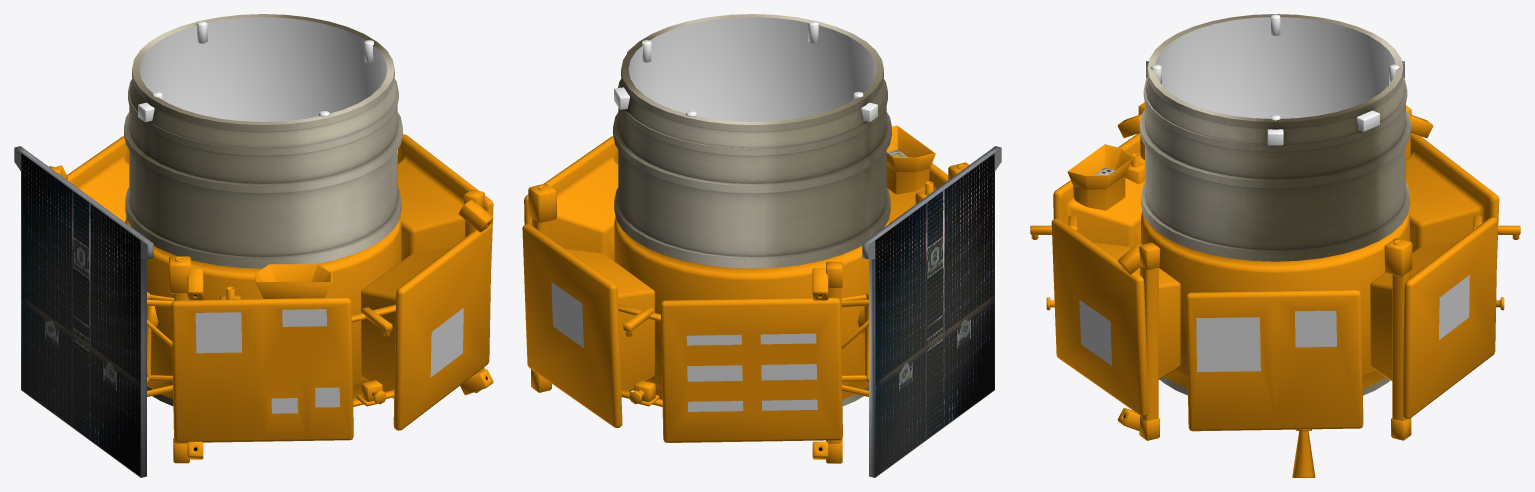
Rendered from lcross.gltf.
3 renders of one model, left to right at view 1: azimuth 30°, elevation 25°; view 2: azimuth 150°, elevation 25°; view 3: azimuth 270°, elevation 25°, orthographic. The views are drawn at different scales.
Parts seen in each view (by area): view 1: BUS, BUS_brass, Array, reflectors; view 2: BUS, BUS_brass, Array, reflectors, foil_boxes; view 3: BUS, BUS_brass, reflectors, star_tracker, foil_boxes.
Boxes of the visible parts, x1,y1,x2,y2 form: BUS: [49, 17, 493, 463]; BUS_brass: [124, 14, 402, 405]; Array: [14, 146, 153, 477]; reflectors: [195, 308, 463, 413]; BUS: [522, 17, 968, 463]; BUS_brass: [613, 14, 907, 406]; Array: [862, 146, 1001, 477]; reflectors: [551, 282, 817, 411]; foil_boxes: [614, 48, 877, 122]; BUS: [1030, 14, 1520, 440]; BUS_brass: [1094, 14, 1411, 395]; reflectors: [1079, 275, 1469, 371]; star_tracker: [1292, 429, 1315, 477]; foil_boxes: [1267, 110, 1379, 145].
Bounding box in the file's own units: 3.06 × 2.67 × 3.6.
Materials: 8 (2 with a texture image).
